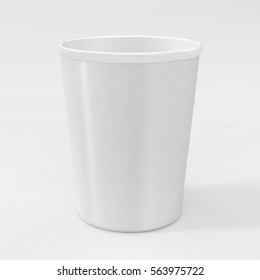plastic_bottle: (56, 32, 205, 235)
